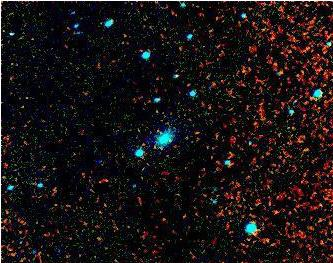star: (136, 113, 166, 143)
